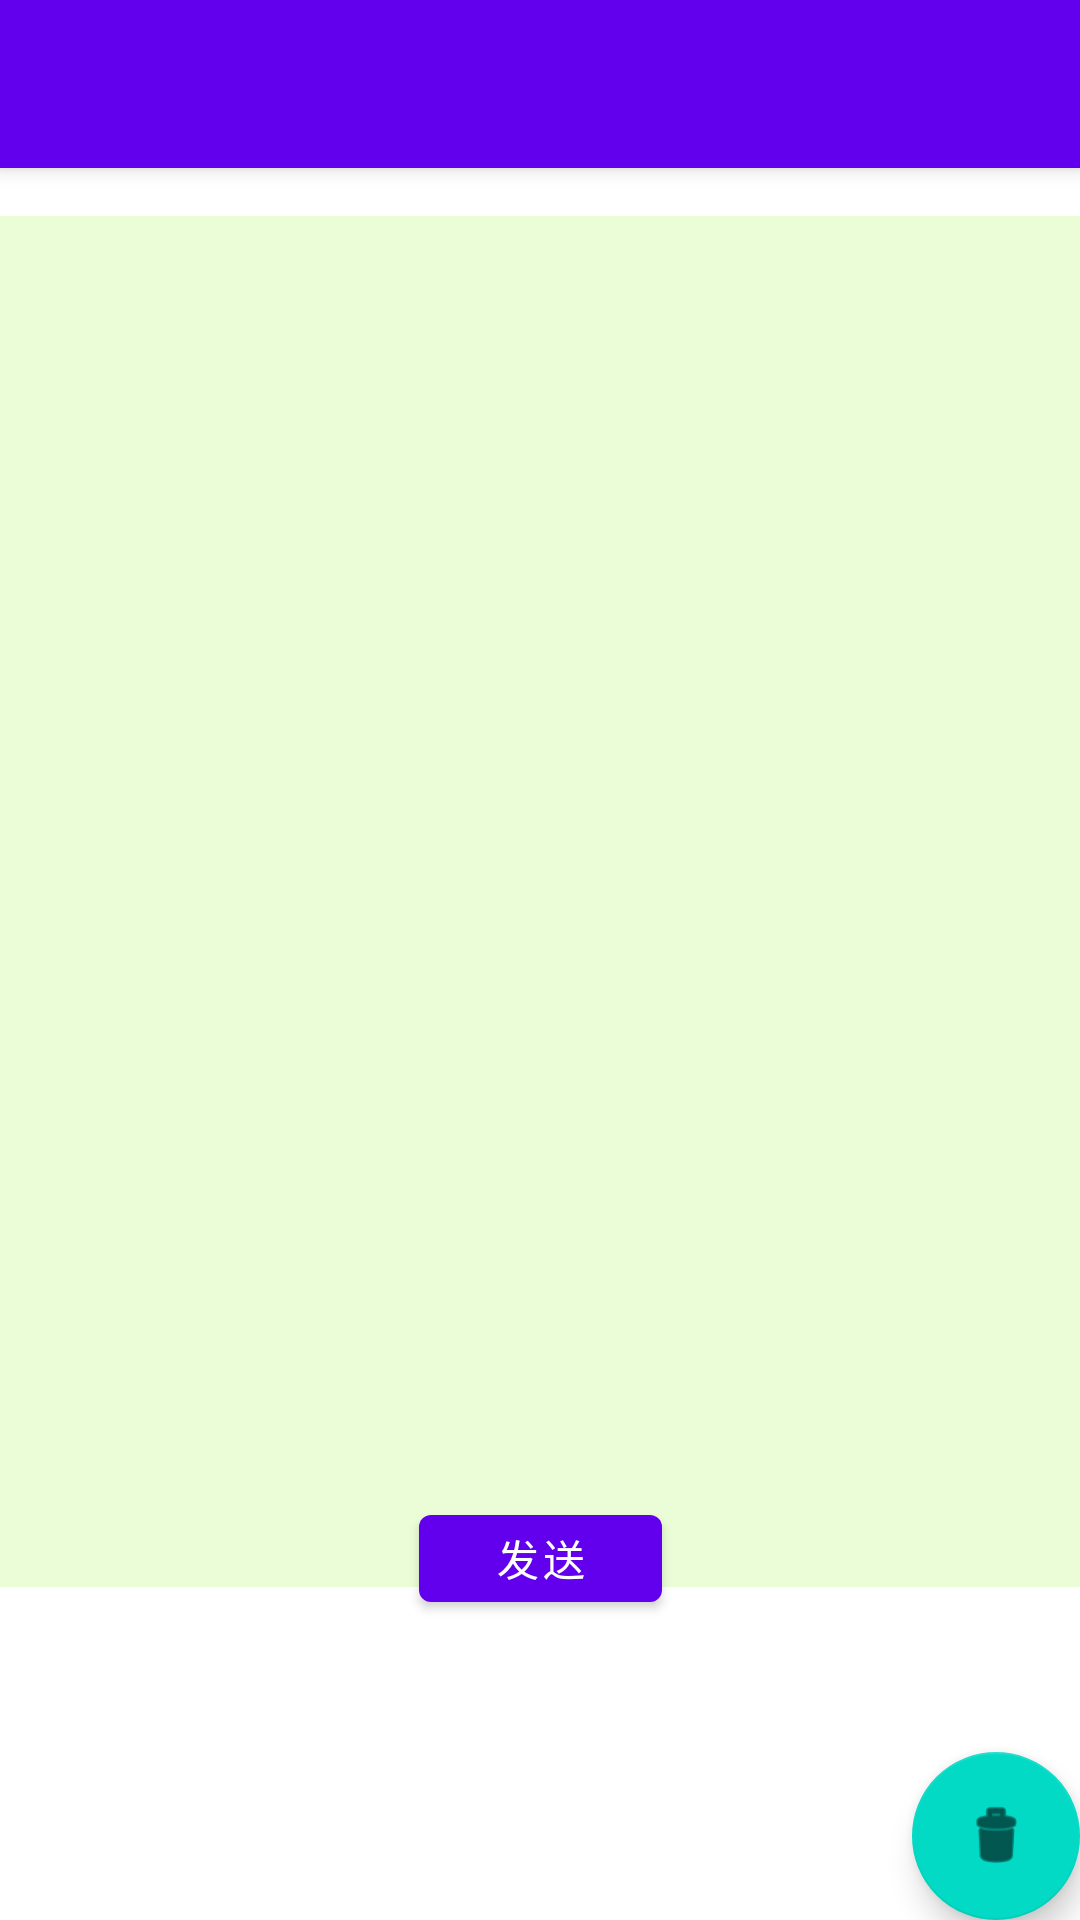

Icon click points for this 1080×1920 phone screenshot, format point (x, y):
delete: point (996, 1836)
